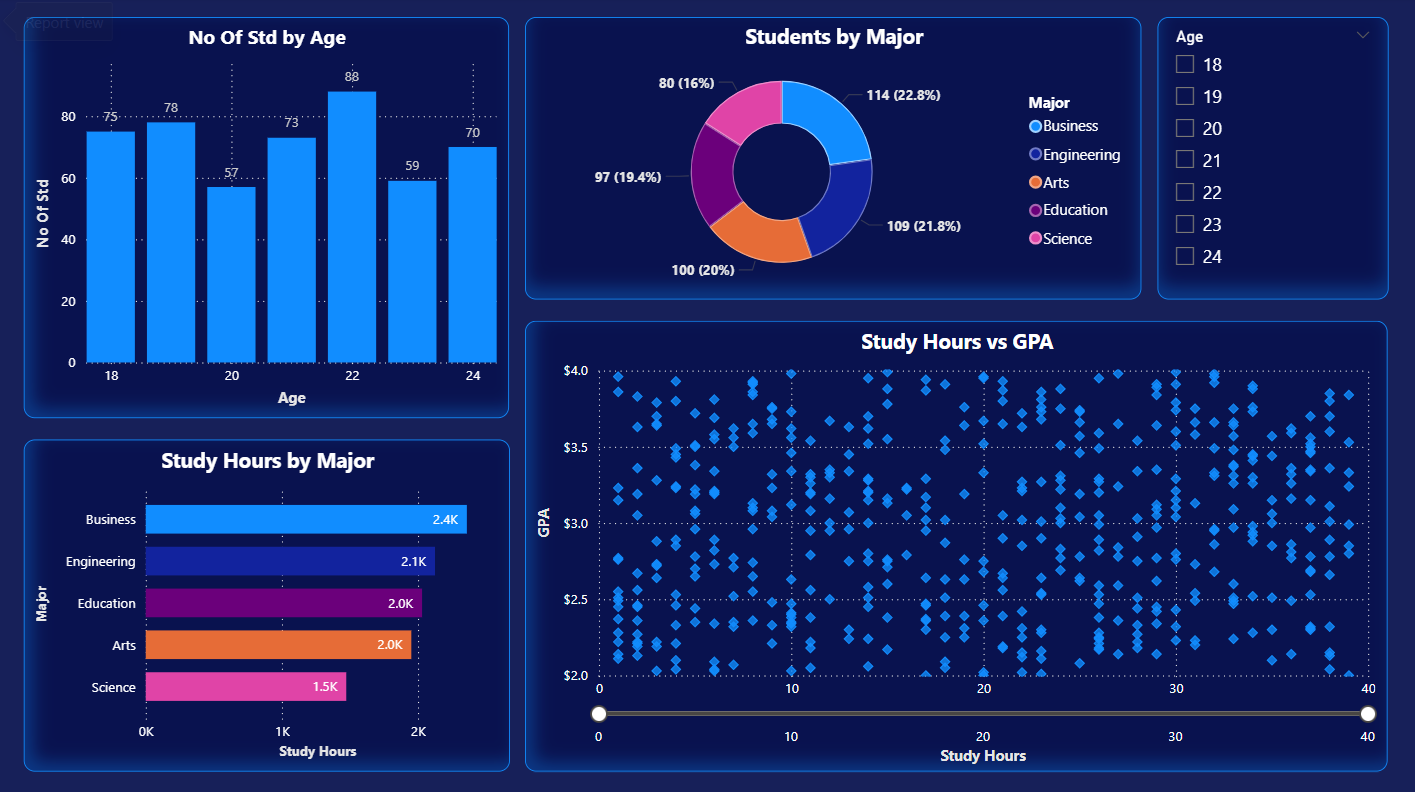

The page's visual inventory and layout, read from the dashboard file:
{"tool":"powerbi","page":{"name":"Demographics","canvas":[1280,720],"ordinal":1},"visuals":[{"type":"donutChart","title":"Students by Major","fields":{"Y":["student_performance_data.No Of Std"],"Category":["student_performance_data.Major"]},"box":[474.8,17.8,557.1,255.2],"z":0},{"type":"clusteredBarChart","title":"Study Hours by Major","fields":{"Category":["student_performance_data.Major"],"Y":["Sum(student_performance_data.StudyHoursPerWeek)"]},"box":[21.5,399.7,439.2,300.4],"z":1000},{"type":"scatterChart","title":"Study Hours vs GPA","fields":{"X":["student_performance_data.StudyHoursPerWeek"],"Y":["student_performance_data.GPA"]},"box":[474.8,292.3,779.4,407.5],"z":2000},{"type":"slicer","fields":{"Values":["student_performance_data.Age"]},"box":[1045.6,17.8,208.6,255.2],"z":3000},{"type":"clusteredColumnChart","fields":{"Y":["student_performance_data.No Of Std"],"Category":["student_performance_data.Age"]},"box":[21.5,18.1,438.1,362.5],"z":4000}]}

Visuals, with their boxes on the page's 1280x720 design canvas (x1, y1, x2, y2). These are canvas units, not pixel positions in the 1415x792 screenshot, which may show the page scaled, cropped or inside an application window:
"Students by Major" donutChart: left=475, top=18, right=1032, bottom=273
"Study Hours by Major" clusteredBarChart: left=22, top=400, right=461, bottom=700
"Study Hours vs GPA" scatterChart: left=475, top=292, right=1254, bottom=700
slicer - student_performance_data.Age: left=1046, top=18, right=1254, bottom=273
clusteredColumnChart - student_performance_data.No Of Std x student_performance_data.Age: left=22, top=18, right=460, bottom=381
